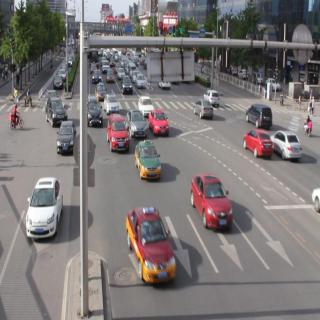Car: (119, 200, 180, 292), (184, 169, 238, 233), (20, 174, 67, 244), (241, 126, 275, 165), (134, 141, 165, 178), (241, 101, 275, 129), (108, 112, 131, 152), (57, 120, 79, 158), (126, 106, 150, 140), (148, 106, 172, 140), (41, 98, 68, 128), (83, 98, 105, 128), (191, 99, 217, 124), (136, 94, 155, 119), (121, 73, 136, 98), (88, 66, 107, 84), (136, 70, 150, 94), (93, 83, 110, 102)
